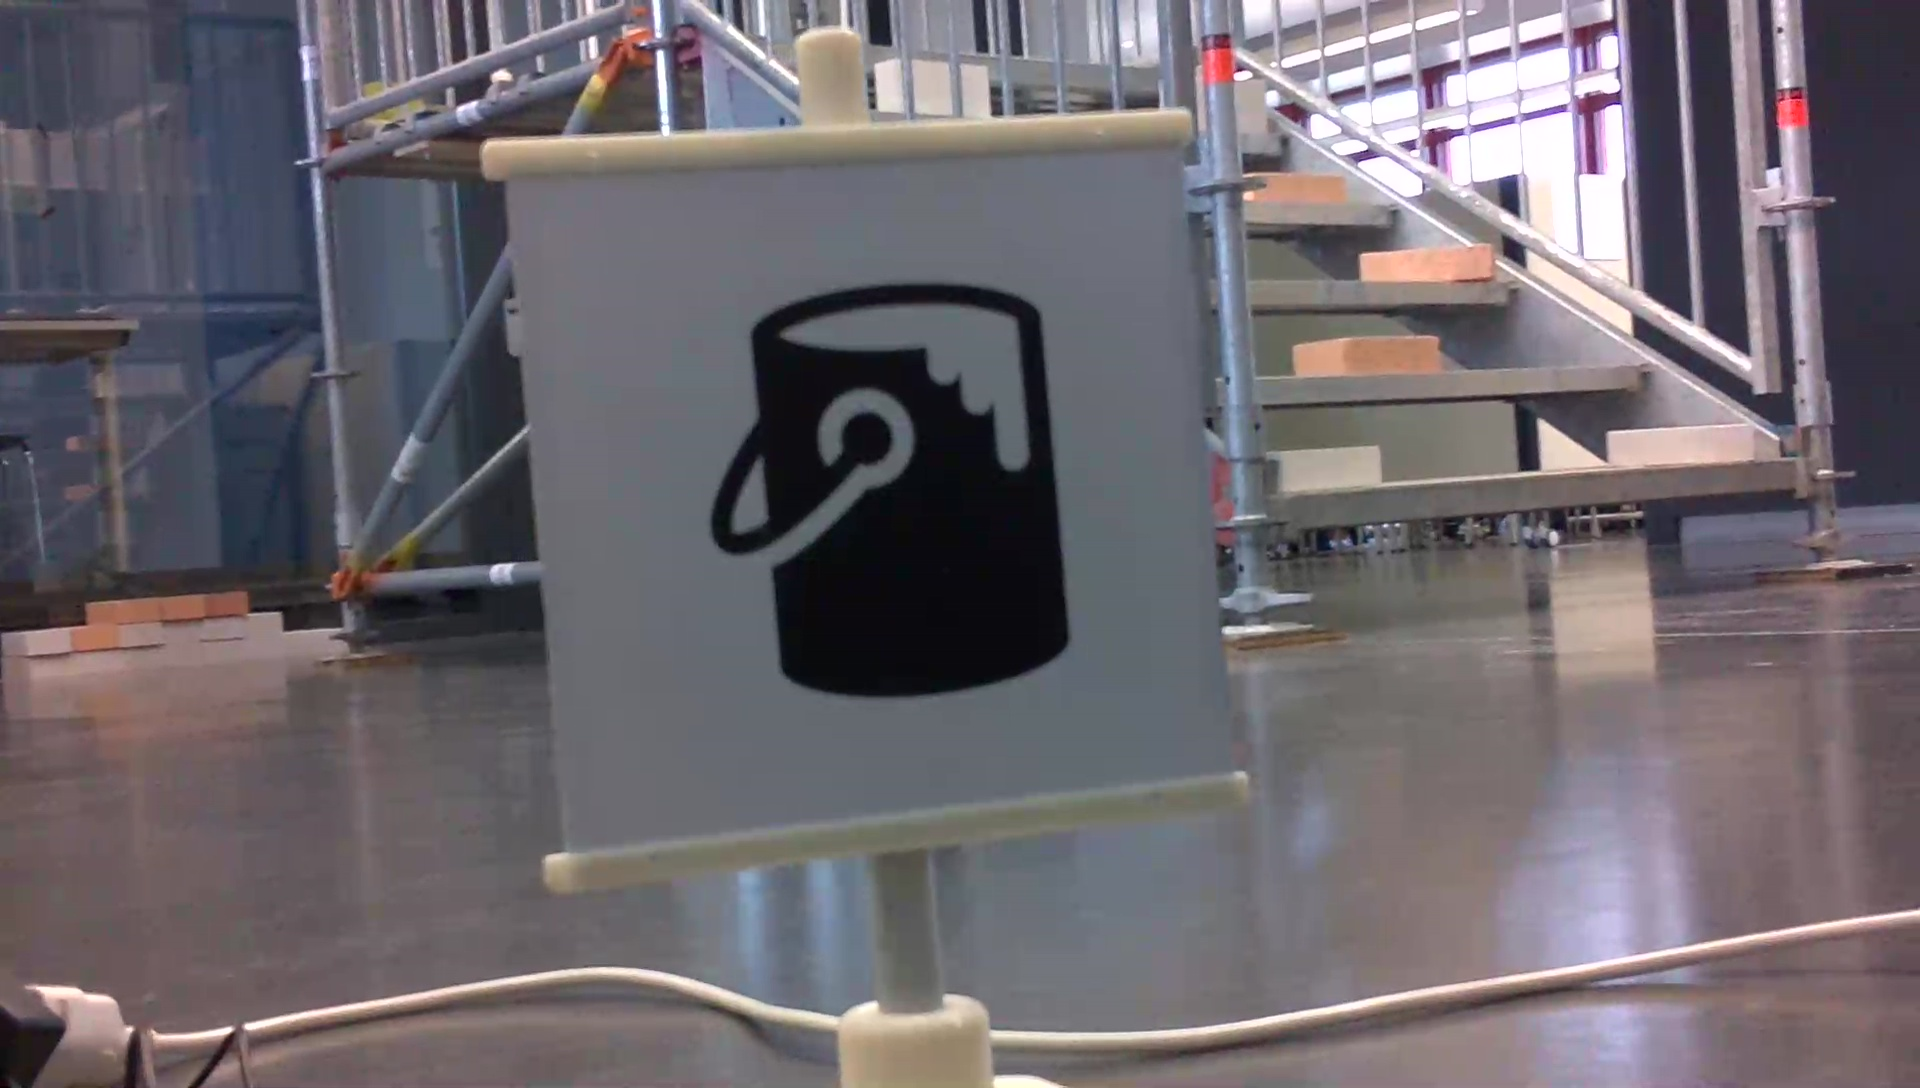brick: (1295, 335, 1433, 376), (1364, 243, 1493, 284), (1613, 427, 1747, 463), (1278, 446, 1375, 489), (1255, 175, 1346, 204), (1234, 83, 1265, 129)
bucket: (698, 270, 1085, 712)
edge: (1280, 463, 1791, 524), (1255, 365, 1648, 404)
